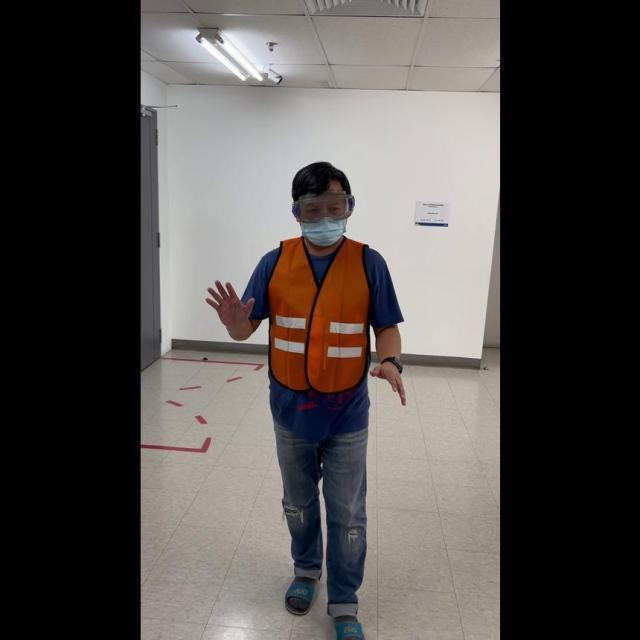bare_hand: (203, 274, 253, 333), (368, 356, 406, 405)
